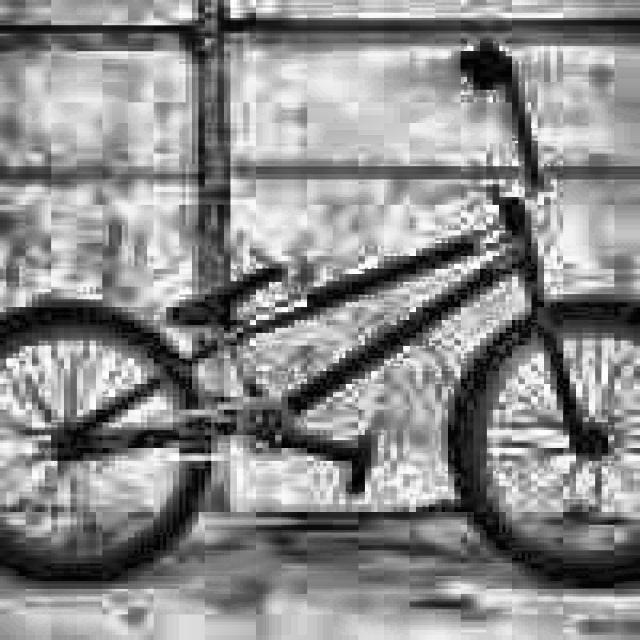motorcycle: (0, 40, 640, 592)
